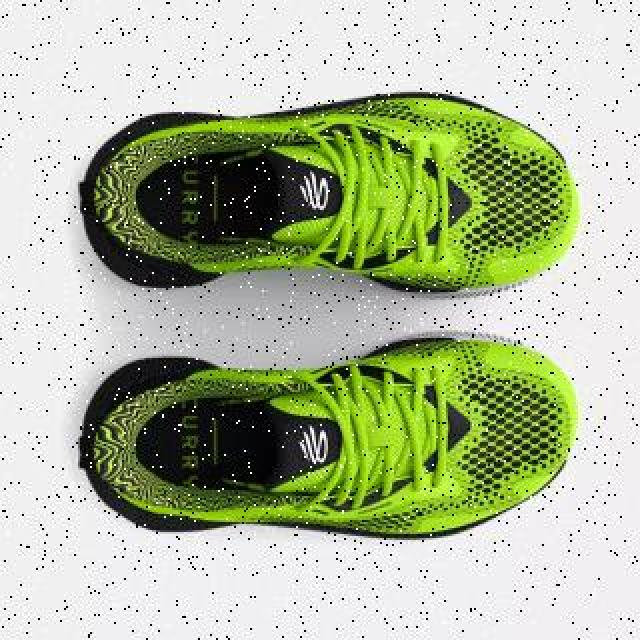shoe: (82, 326, 578, 542), (79, 89, 579, 297)
